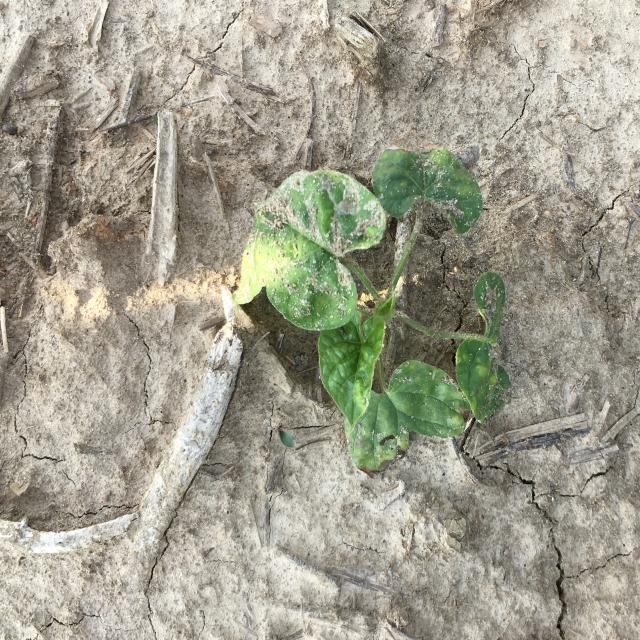MorningGlory: (232, 147, 511, 474)
